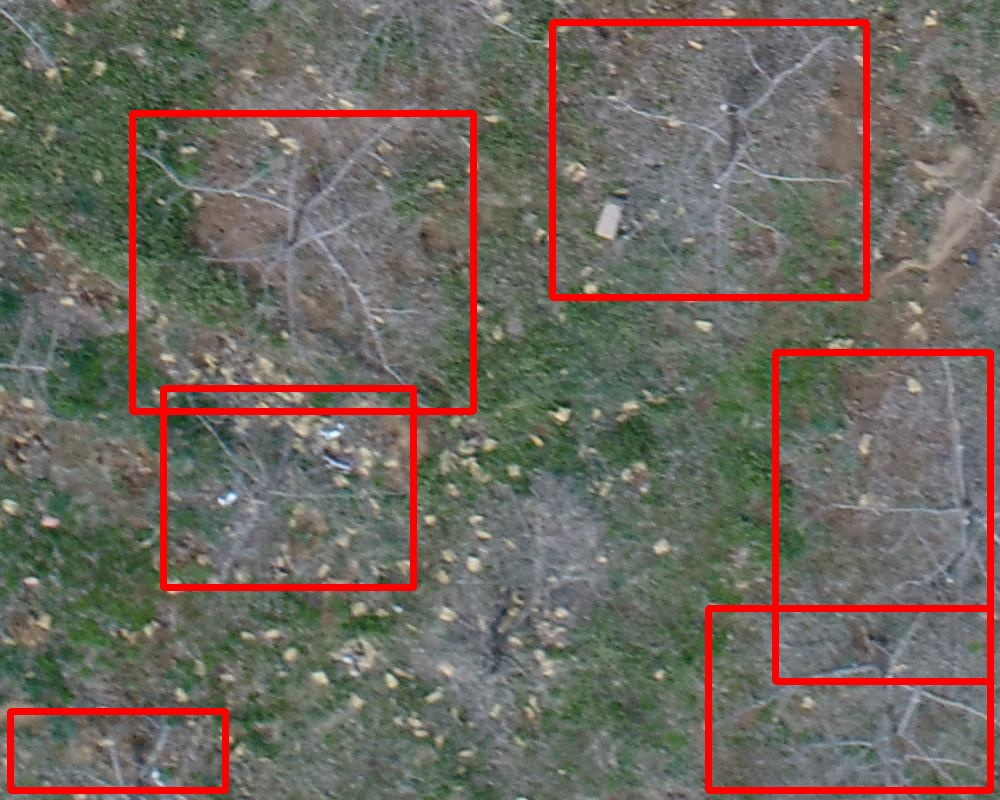apple: (132, 113, 473, 411), (552, 22, 866, 297), (775, 352, 990, 681), (708, 608, 990, 790), (163, 388, 413, 587), (10, 711, 225, 790)
